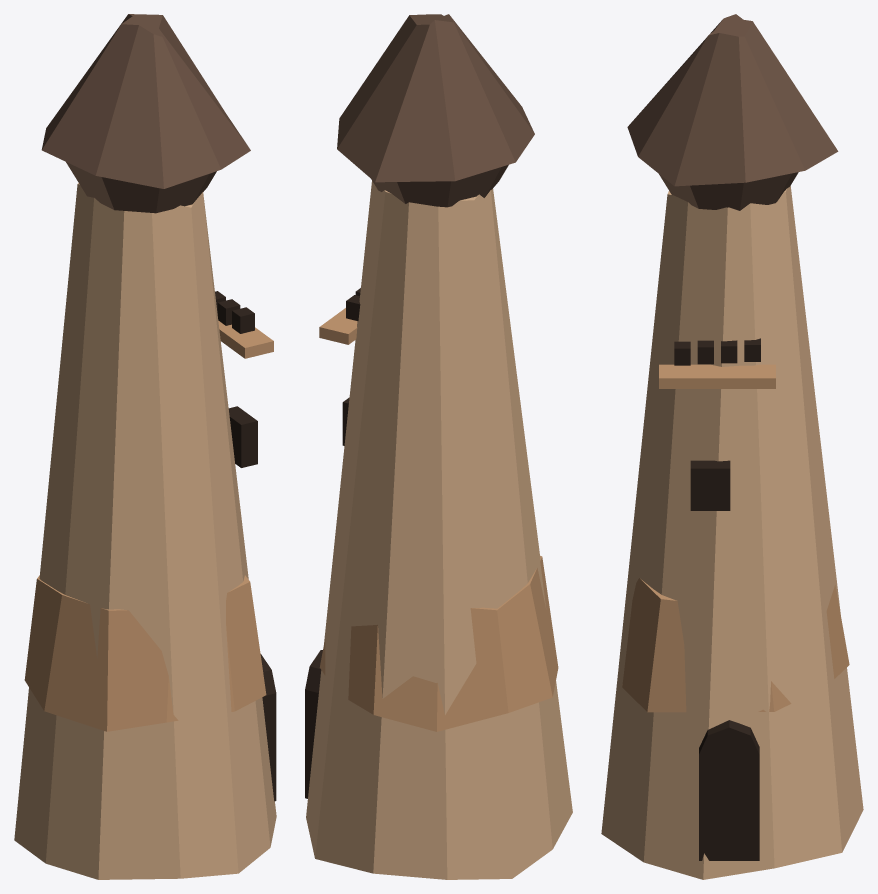
Rendered from chimney_a.glb.
3 renders of one model, left to right at view 1: azimuth 30°, elevation 25°; view 2: azimuth 150°, elevation 25°; view 3: azimuth 270°, elevation 25°, orthographic. The views are drawn at different scales.
Parts seen in each view (by area): view 1: chimney_a; view 2: chimney_a; view 3: chimney_a.
Part boxes in pixels (x1=…): chimney_a: x1=14, y1=14, x2=276, y2=879; chimney_a: x1=305, y1=14, x2=572, y2=879; chimney_a: x1=601, y1=14, x2=863, y2=879.
Bounding box in the file's own units: 1.1 × 3.78 × 1.12.
